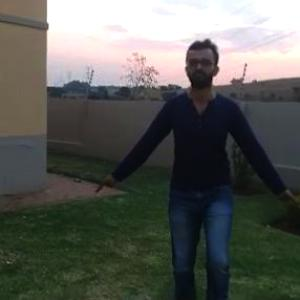land: (114, 44, 295, 279)
